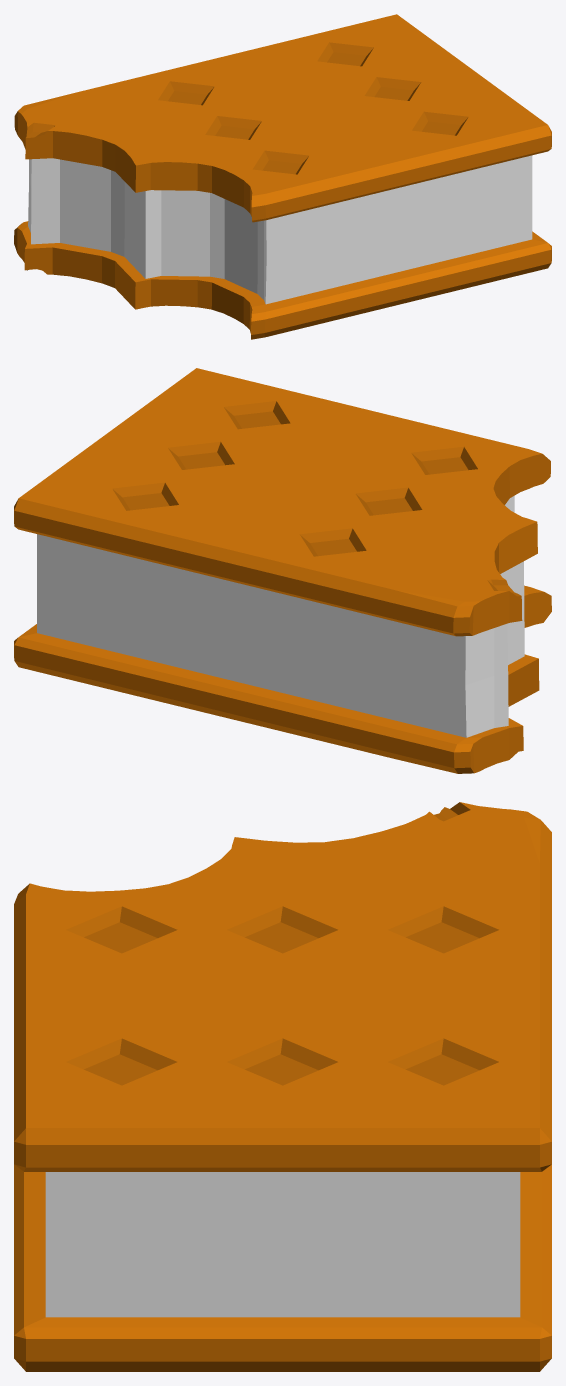
Rendered from Sangui de Nata Roto.fbx.
The picture shows the model from 3 angles, top to bottom: view 1: azimuth 30°, elevation 25°; view 2: azimuth 150°, elevation 25°; view 3: azimuth 270°, elevation 25°; orthographic projection. The views are drawn at different scales.
Parts seen in each view (by area): view 1: SueloRoto; view 2: SueloRoto; view 3: SueloRoto.
Part boxes in pixels (bbox=[...]): SueloRoto: bbox=[14, 14, 551, 339]; SueloRoto: bbox=[14, 368, 551, 773]; SueloRoto: bbox=[14, 802, 551, 1371].
Size of the model in its own units: 427 by 145 by 289.
